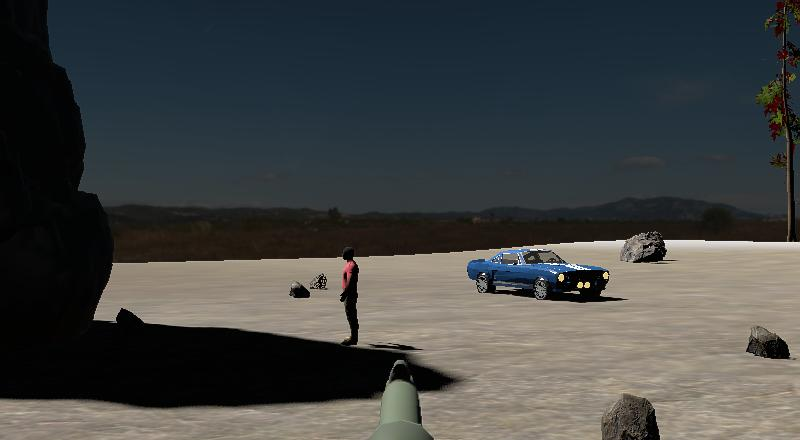Human: (336, 243, 365, 349)
car: (464, 242, 614, 307)
